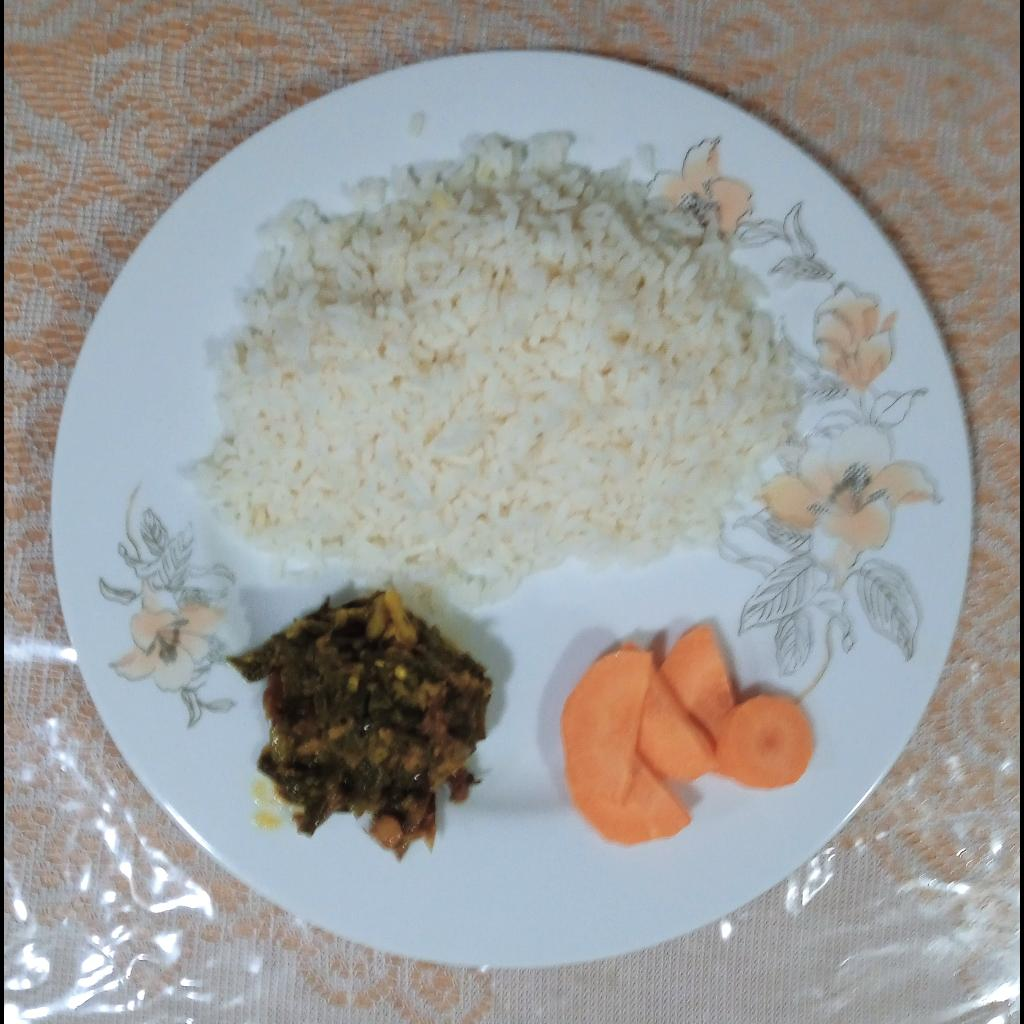carrot: (560, 625, 814, 845)
rice: (193, 127, 800, 613)
shak: (232, 586, 495, 859)
